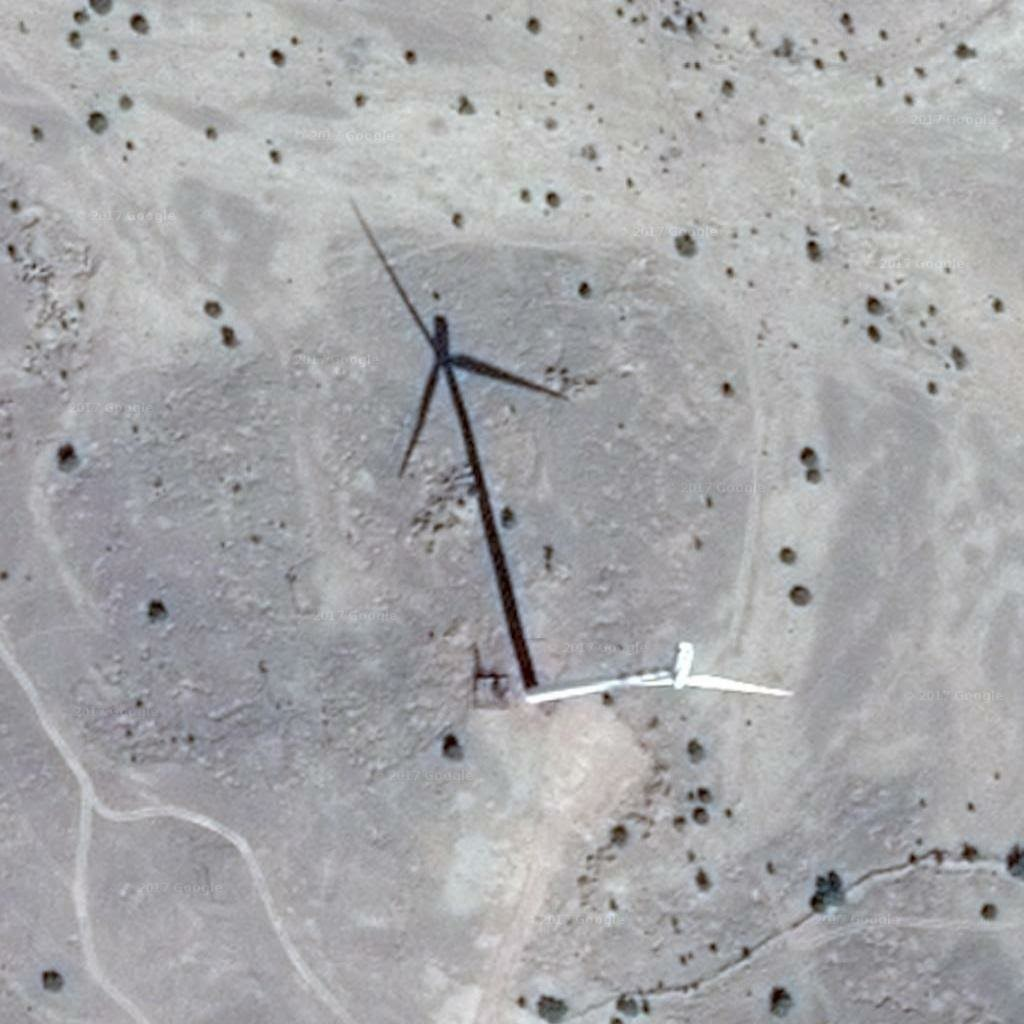Windmill: (343, 188, 529, 571)
